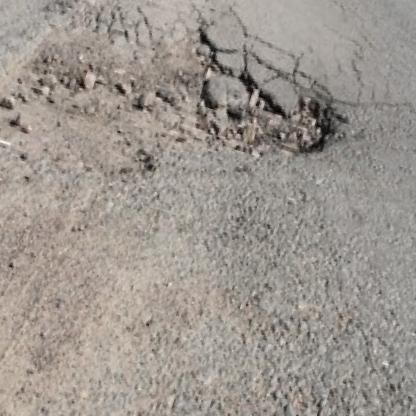pothole: (166, 26, 351, 186)
